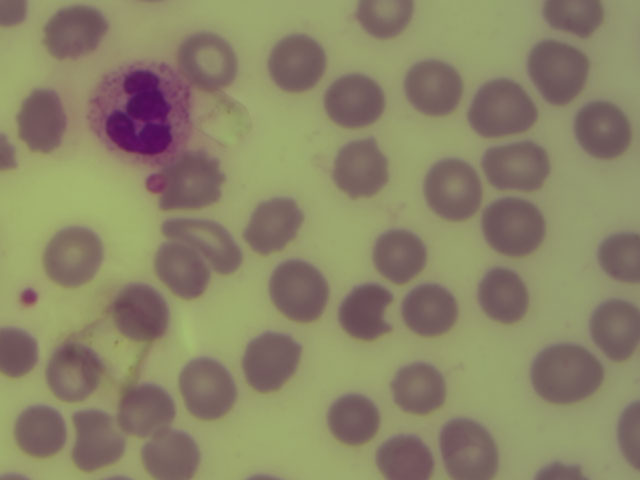Platelets: (145, 175, 166, 191), (22, 287, 37, 307)
RBC: (162, 204, 243, 271), (533, 342, 606, 406), (12, 85, 77, 154), (338, 279, 398, 342), (268, 261, 331, 321), (267, 33, 330, 90), (44, 228, 107, 285), (245, 196, 308, 253), (163, 149, 226, 206), (577, 300, 640, 357), (402, 277, 465, 334), (366, 226, 429, 283), (473, 266, 536, 323), (483, 198, 546, 255), (331, 140, 394, 197), (420, 159, 483, 216), (483, 133, 546, 190), (471, 79, 534, 136), (574, 99, 637, 156), (46, 3, 109, 60), (178, 34, 241, 91), (328, 71, 391, 128), (527, 41, 590, 98), (401, 58, 464, 115), (378, 421, 438, 480), (142, 417, 199, 479), (116, 281, 167, 344), (71, 405, 122, 468), (155, 242, 206, 305), (246, 330, 297, 393), (48, 336, 99, 399), (16, 397, 67, 460), (444, 415, 495, 478), (391, 350, 442, 413), (182, 356, 233, 419), (122, 374, 173, 437), (325, 392, 377, 447), (595, 230, 640, 284), (353, 1, 412, 41), (542, 1, 606, 36), (1, 324, 37, 380), (610, 402, 640, 467), (534, 454, 588, 480)
WBC: (89, 63, 189, 164)
